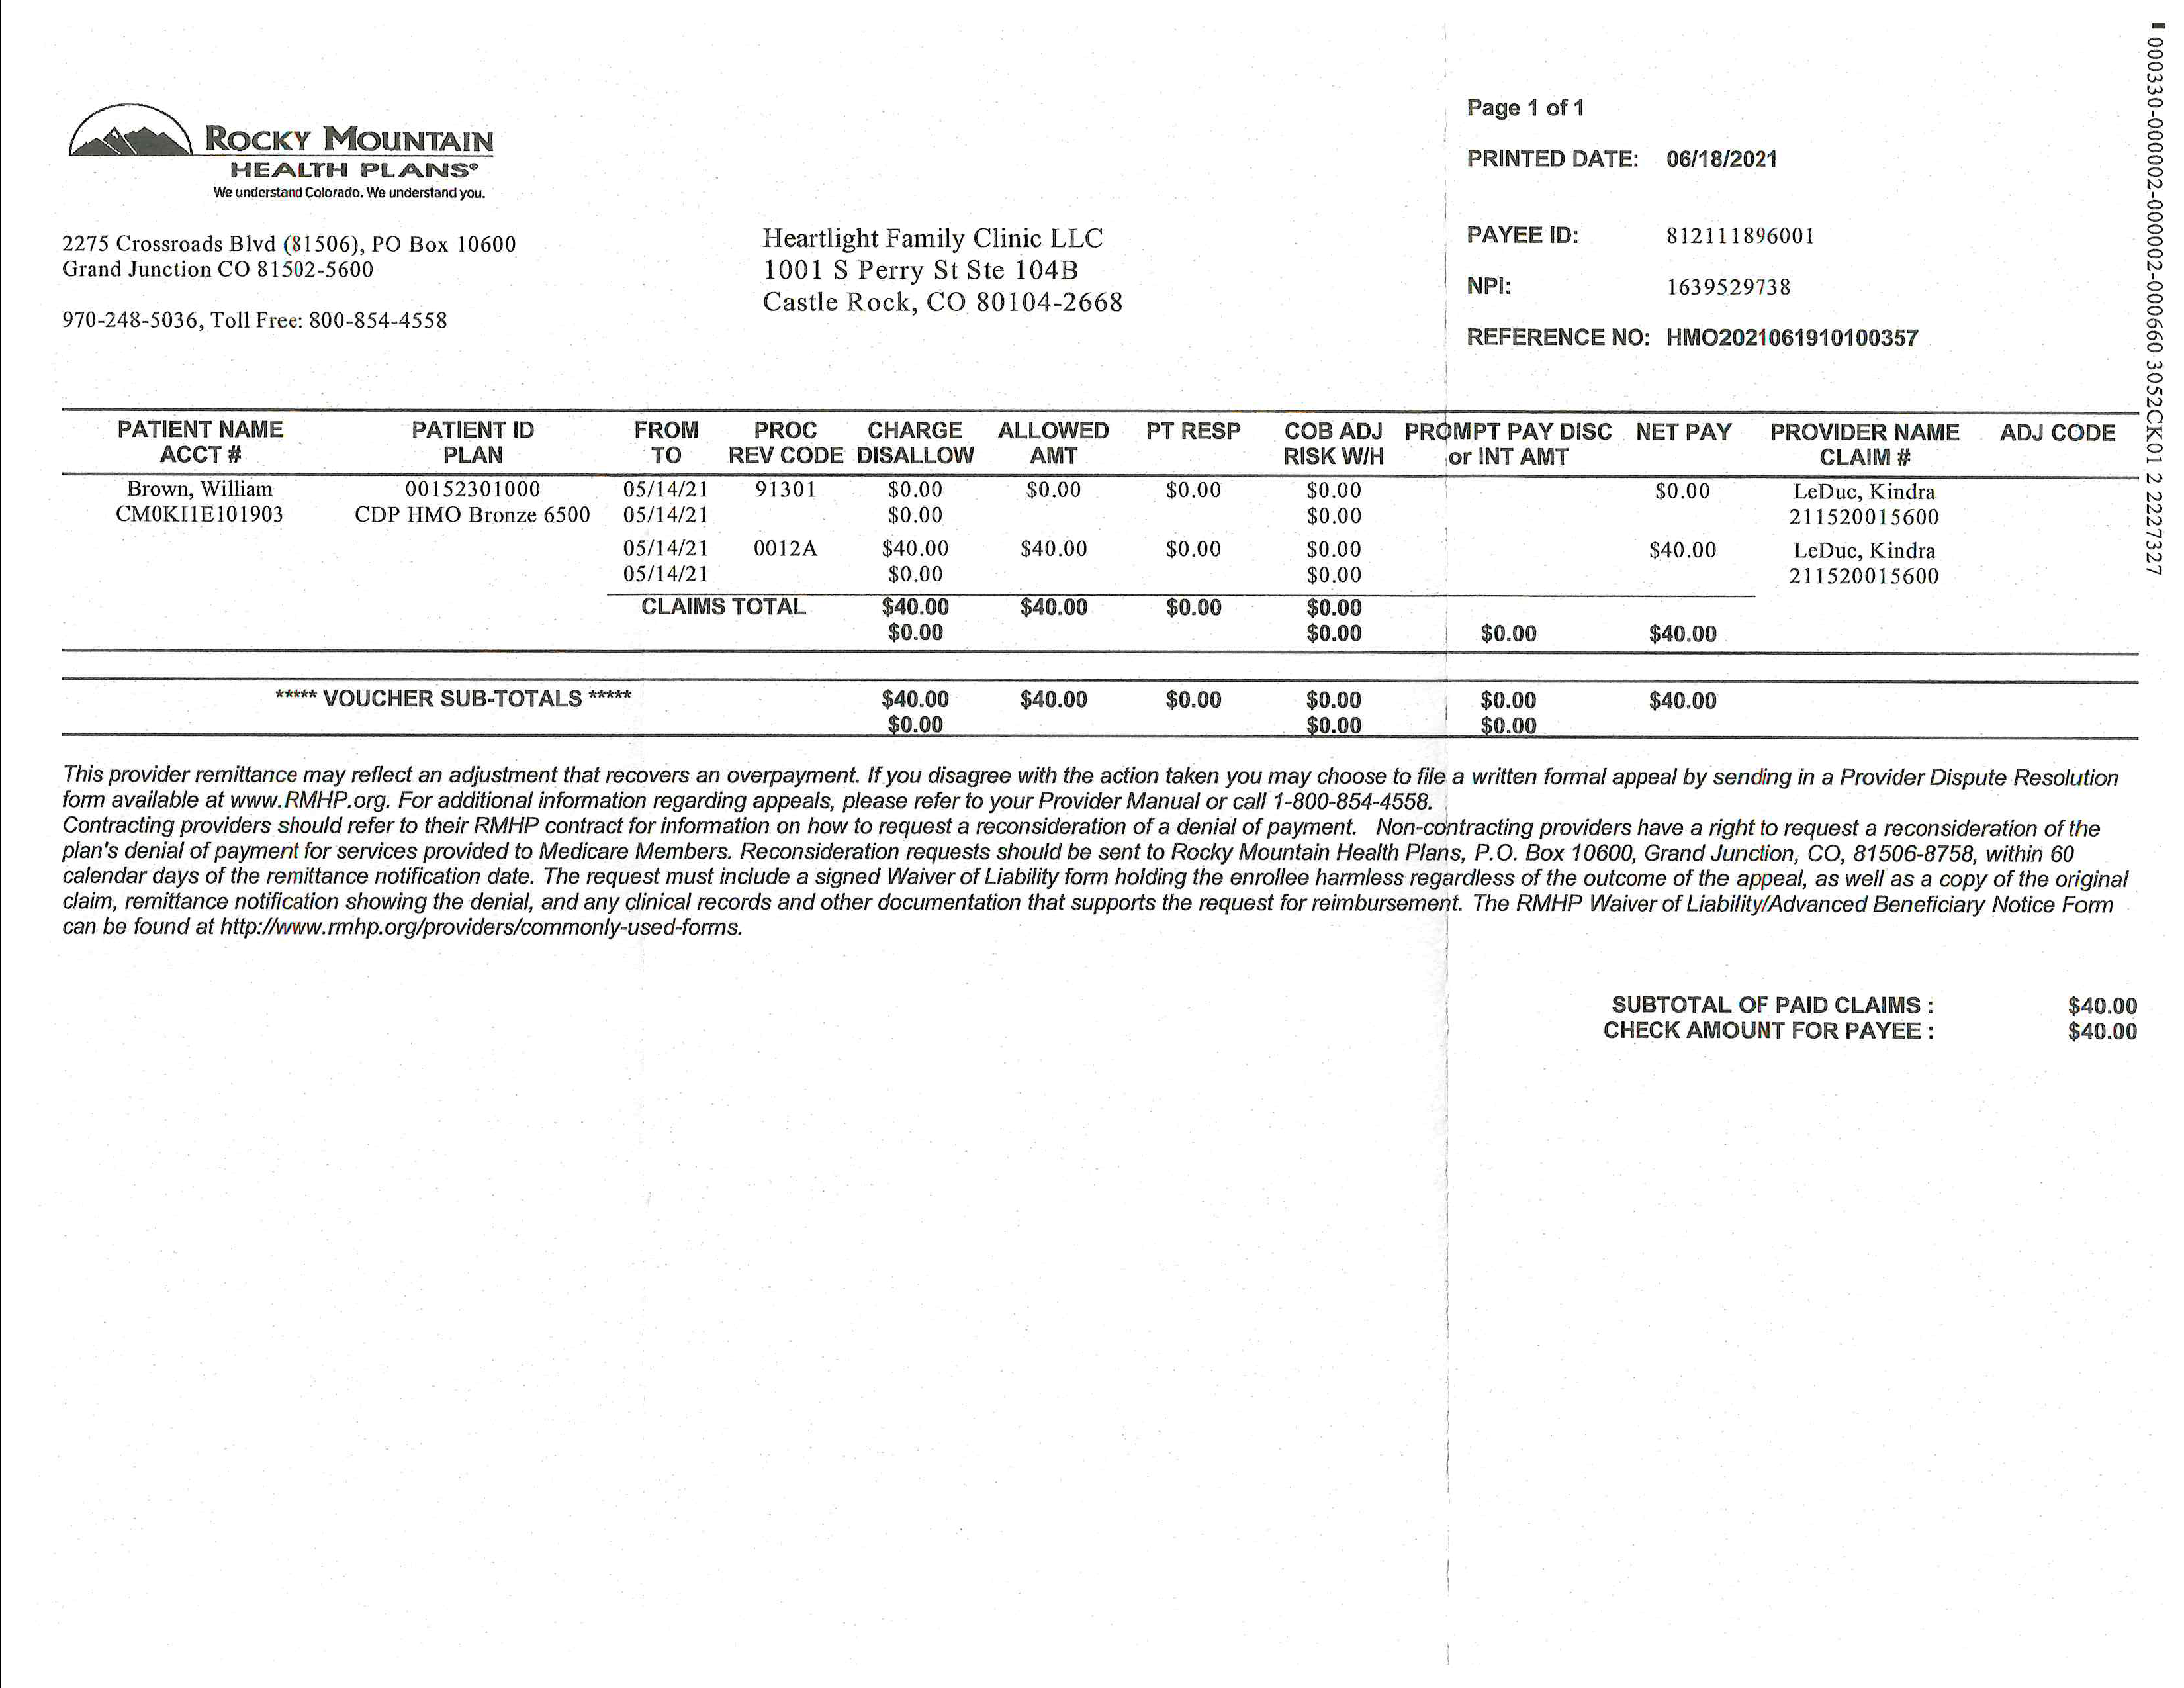data: (1445, 129, 1932, 365), (741, 206, 1147, 337), (1576, 975, 2141, 1060)
table: (55, 392, 2147, 668)
